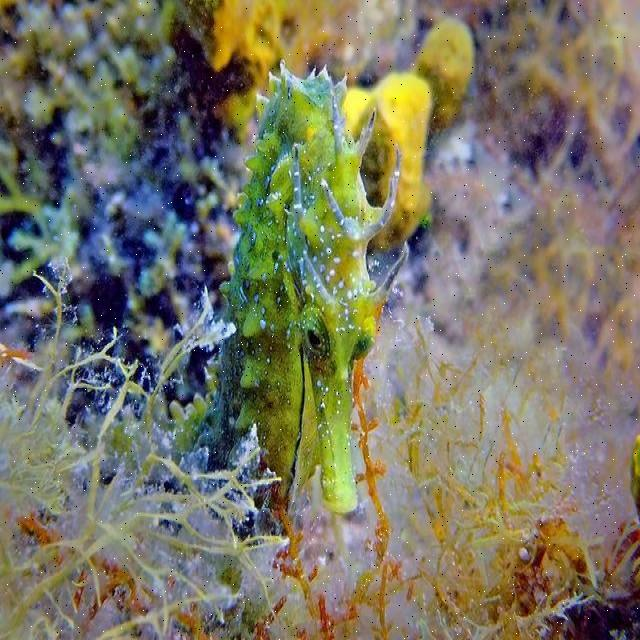fish: (213, 68, 407, 521)
